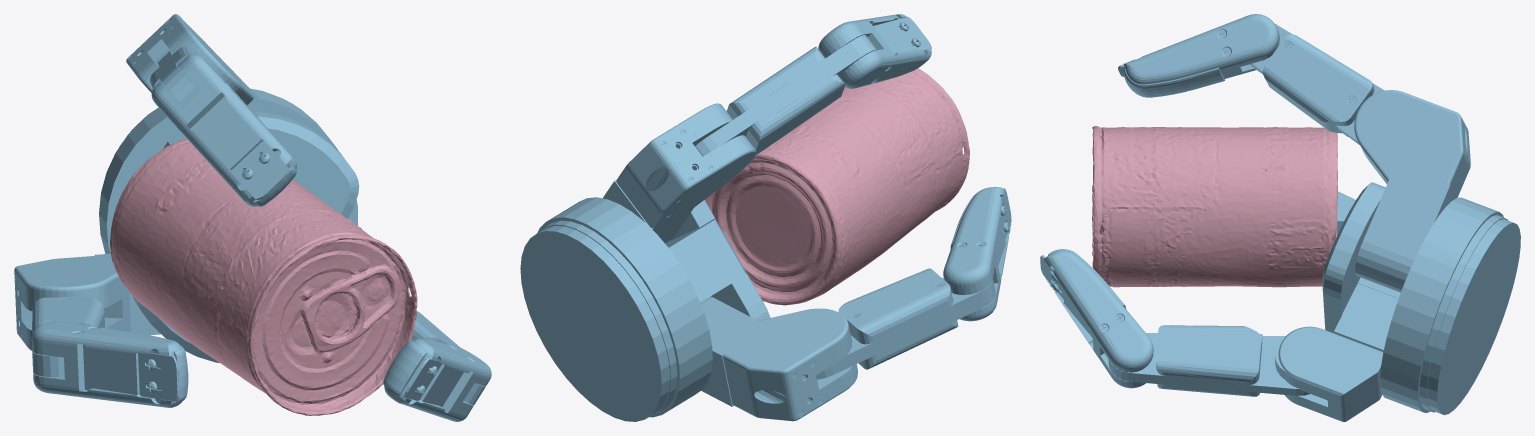
3 renders of one model, left to right at view 1: azimuth 30°, elevation 25°; view 2: azimuth 150°, elevation 25°; view 3: azimuth 270°, elevation 25°, orthographic. The views are drawn at different scales.
Visible parts, largest first — view 1: tomato_soup_can.stl, world; view 2: world, tomato_soup_can.stl; view 3: world, tomato_soup_can.stl.
Part boxes in pixels (x1,y1,x2,y2): tomato_soup_can.stl: (110, 138, 417, 415); world: (14, 14, 491, 421); world: (520, 14, 1011, 421); tomato_soup_can.stl: (705, 68, 969, 305); world: (1040, 14, 1520, 421); tomato_soup_can.stl: (1092, 126, 1337, 287).
Bounding box in the file's own units: 0.1688 × 0.151 × 0.1992.
